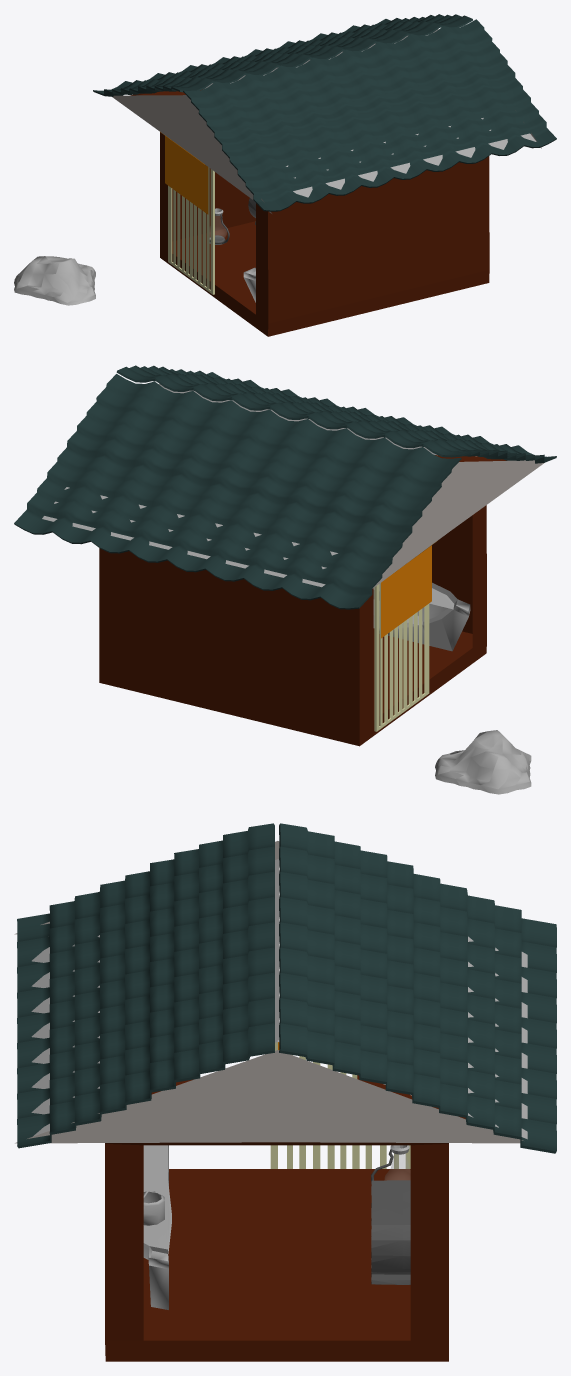
Rendered from compulativehouse_1.fbx.
3 views of the same model, one above another, from view 1: azimuth 30°, elevation 25°; view 2: azimuth 150°, elevation 25°; view 3: azimuth 270°, elevation 25° (orthographic). The views are drawn at different scales.
Parts seen in each view (by area): view 1: directionalLight2; view 2: directionalLight2; view 3: directionalLight2.
Part boxes in pixels (<box>): directionalLight2: <box>14,14,556,336</box>; directionalLight2: <box>14,365,556,794</box>; directionalLight2: <box>14,823,556,1361</box>.
Size of the model in its own units: 27.9 by 14.19 by 20.29.
